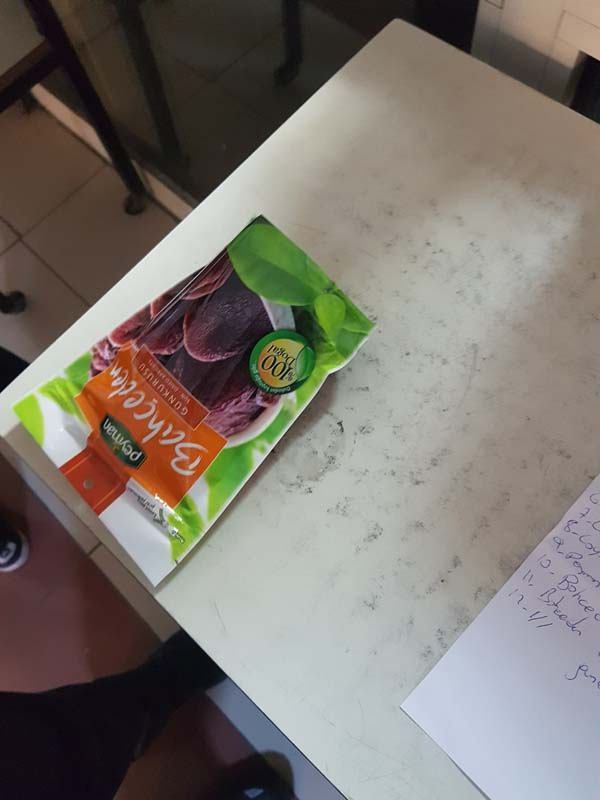bahcedengunkurusu: (9, 214, 377, 595)
